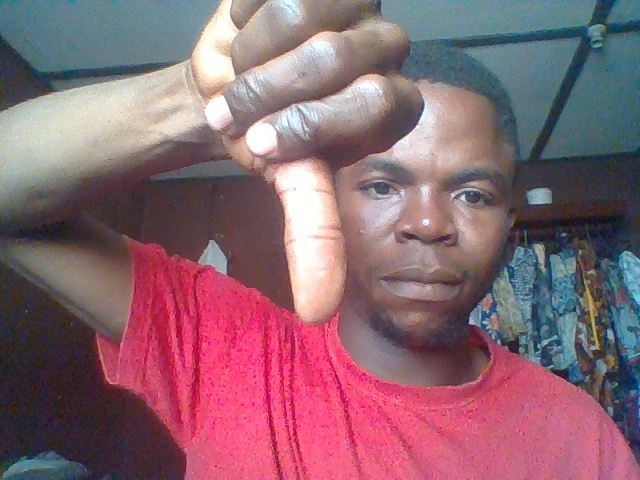Thumbdown: (167, 4, 432, 328)
